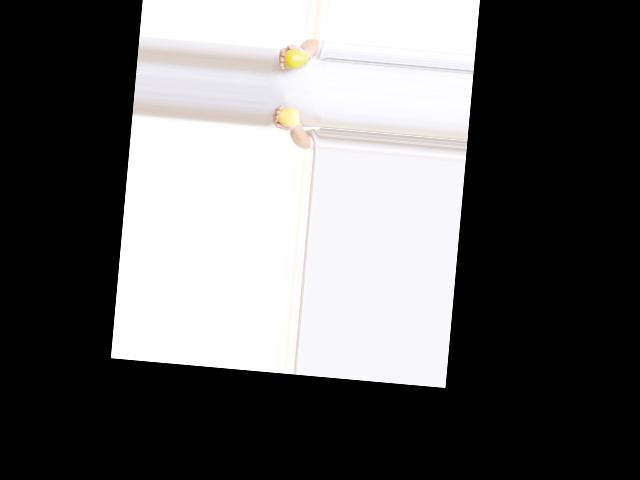apple: (275, 105, 301, 129)
